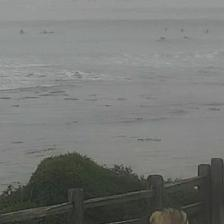surfer: (40, 30, 54, 33), (183, 36, 191, 40), (19, 29, 25, 34), (160, 36, 166, 40), (205, 29, 209, 34), (164, 27, 168, 31), (181, 28, 184, 32)
